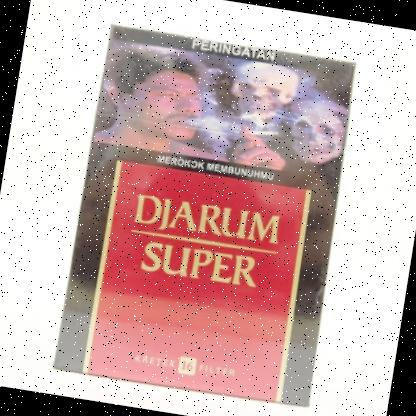bungkus rokok: (49, 11, 369, 414)
